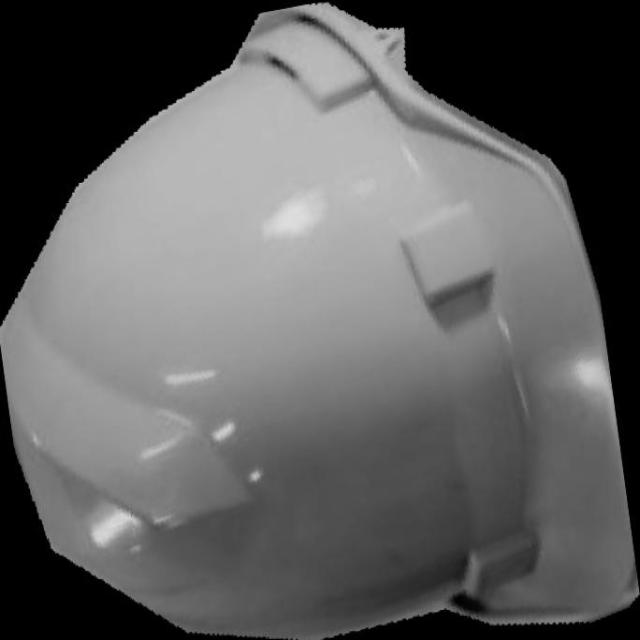construction helmet: (0, 1, 640, 640)
